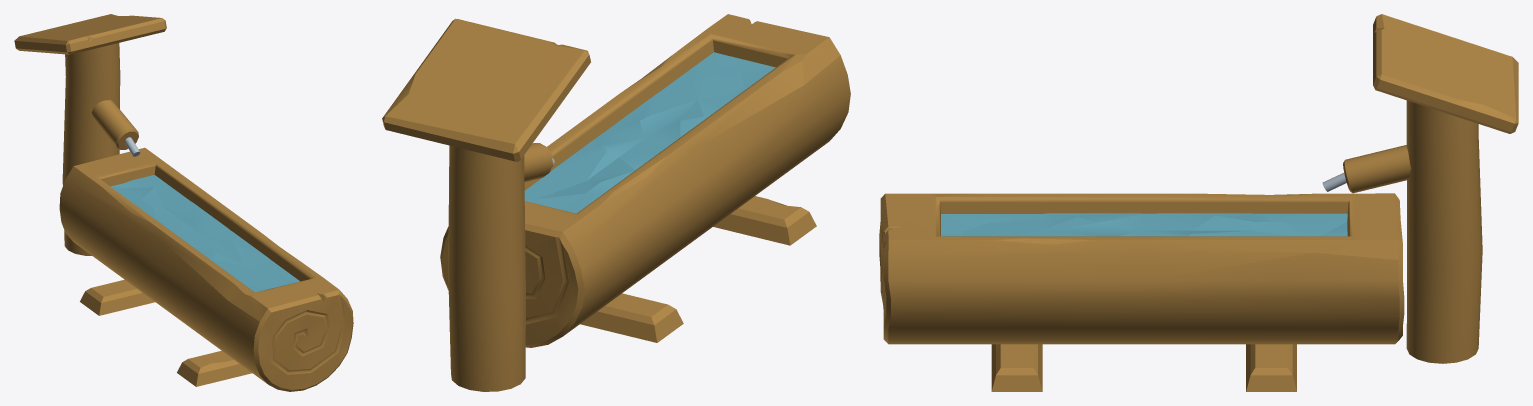
File: waterTrough.glb
3 views of the same model, side by side, from view 1: azimuth 30°, elevation 25°; view 2: azimuth 150°, elevation 25°; view 3: azimuth 270°, elevation 25° (orthographic). The views are drawn at different scales.
Parts seen in each view (by area): view 1: waterspot; view 2: waterspot; view 3: waterspot.
Part boxes in pixels (bbox=[...]): waterspot: bbox=[14, 14, 353, 391]; waterspot: bbox=[382, 14, 850, 391]; waterspot: bbox=[879, 14, 1518, 391].
Size of the model in its own units: 2.9 by 4.75 by 9.04.
